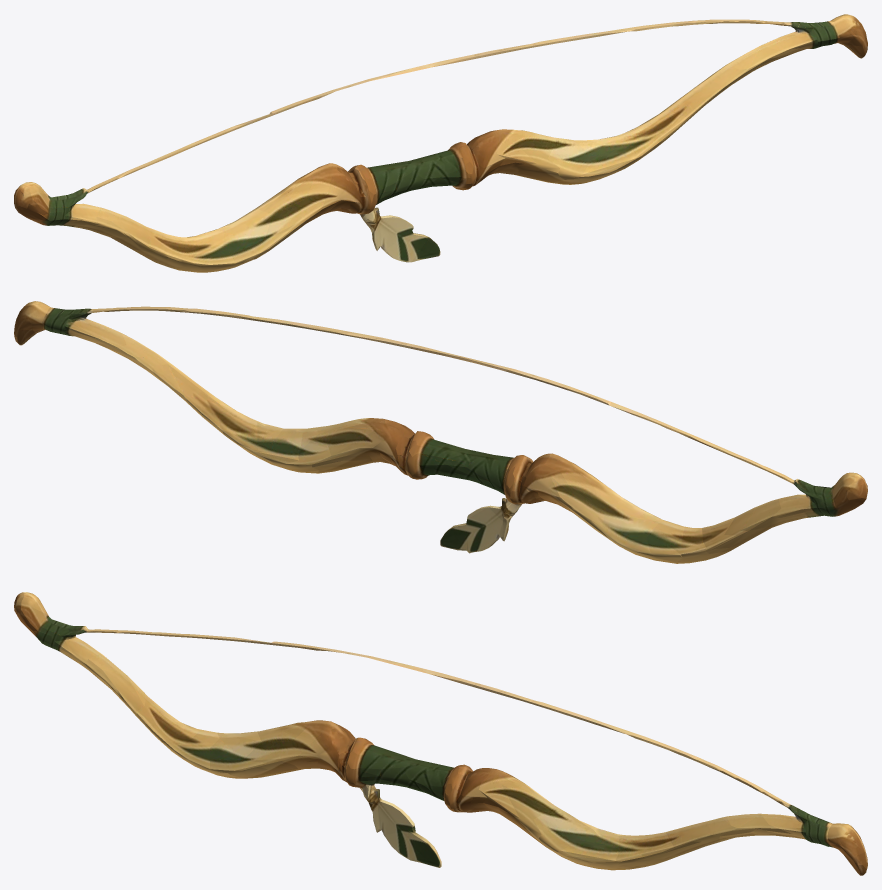
File: wind-archer-bow.hq.glb
3 renders of one model, top to bottom at view 1: azimuth 30°, elevation 25°; view 2: azimuth 150°, elevation 25°; view 3: azimuth 330°, elevation 25°, orthographic.
Visible parts, largest first — view 1: output_unwrapped; view 2: output_unwrapped; view 3: output_unwrapped.
Boxes of the visible parts, box(x1,y1,x2,y2) form: output_unwrapped: box(14, 14, 867, 272); output_unwrapped: box(14, 301, 867, 563); output_unwrapped: box(14, 592, 867, 875).
Bounding box in the file's own units: 1.91 × 0.4147 × 0.1081.
1 material, 1 textured.
